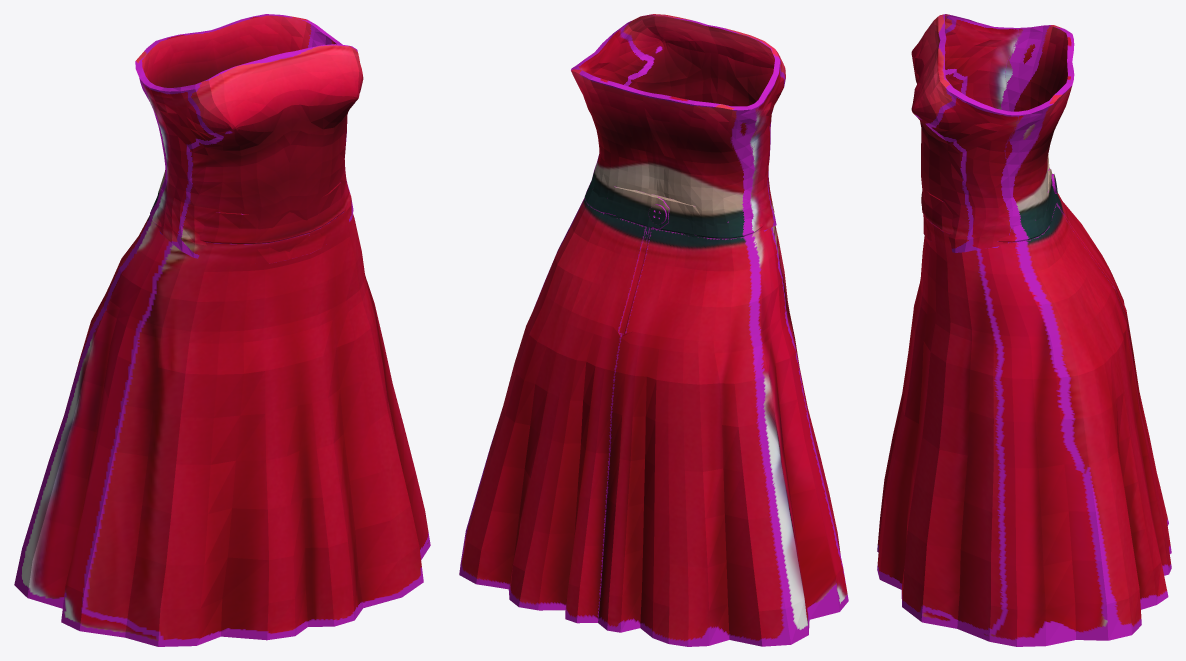
The picture shows the model from 3 angles, left to right: view 1: azimuth 30°, elevation 25°; view 2: azimuth 150°, elevation 25°; view 3: azimuth 270°, elevation 25°; orthographic projection. The views are drawn at different scales.
Size of the model in its own units: 0.5475 by 0.7869 by 0.4006.
Materials: 1 (1 with a texture image).
